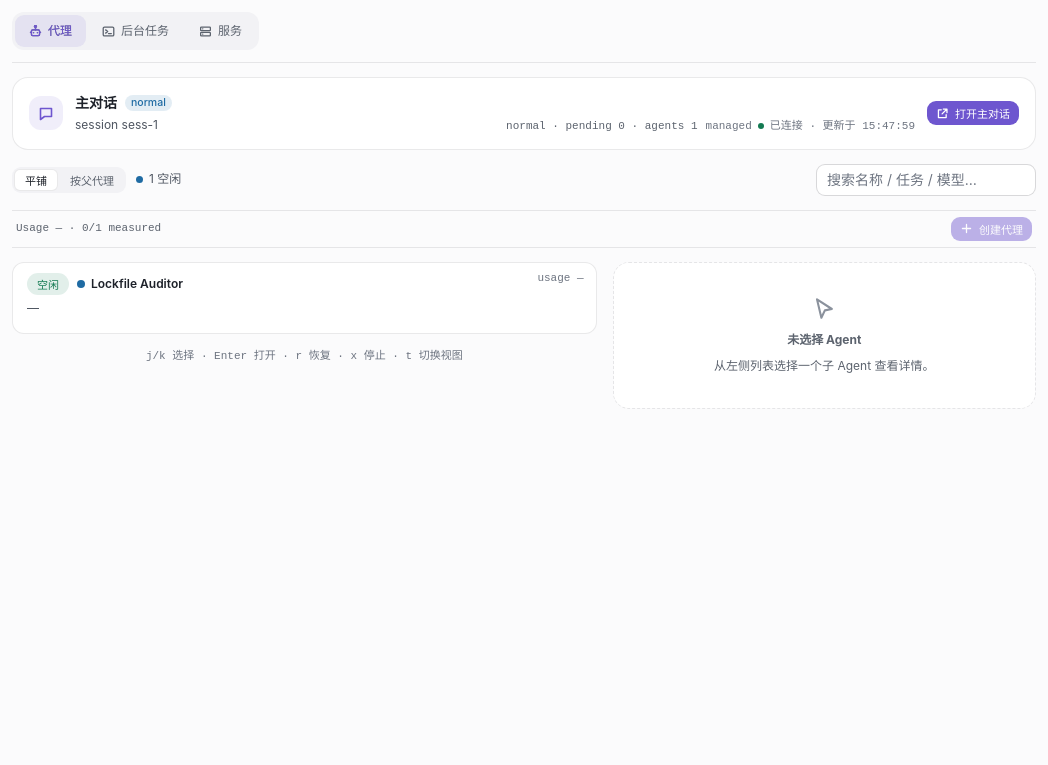
Scenario: AgentHubPage conversation preview › shows ChipComposer when the selected agent can receive agent.send
Step 1. Click the option "空闲 Lockfile Auditor — usage —" → coordinates (48, 284), box top-left (12, 262), bottom-right (597, 334)
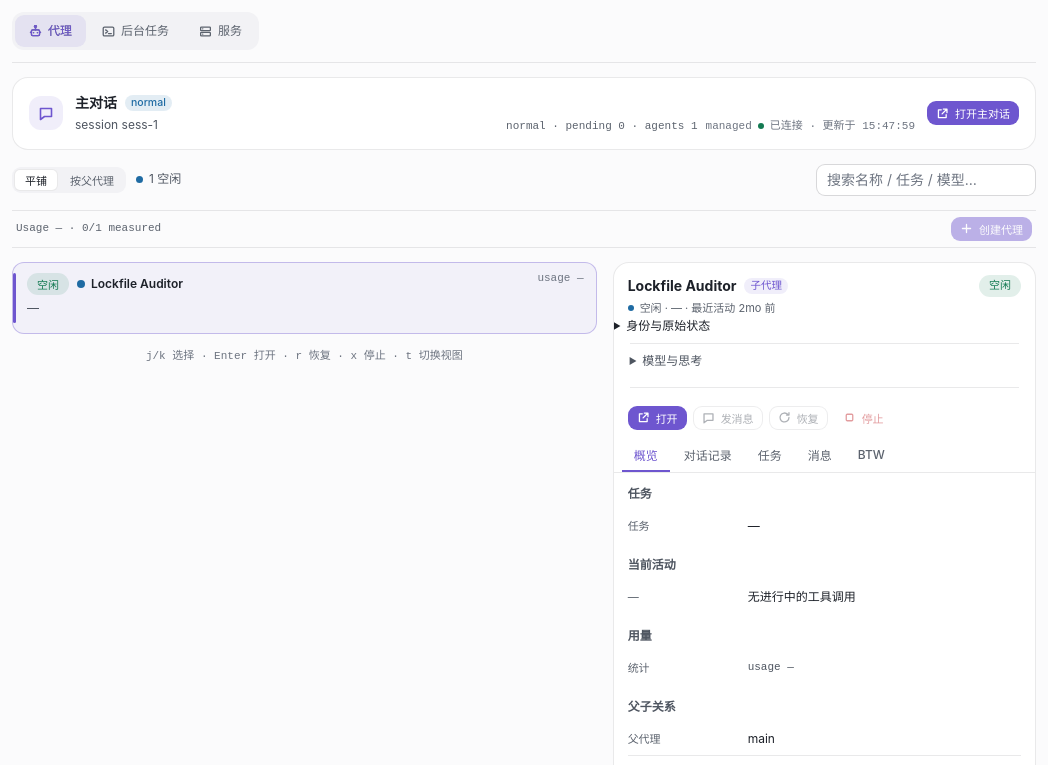
Step 2. Click the button "打开" → coordinates (657, 418), box top-left (628, 406), bottom-right (687, 430)
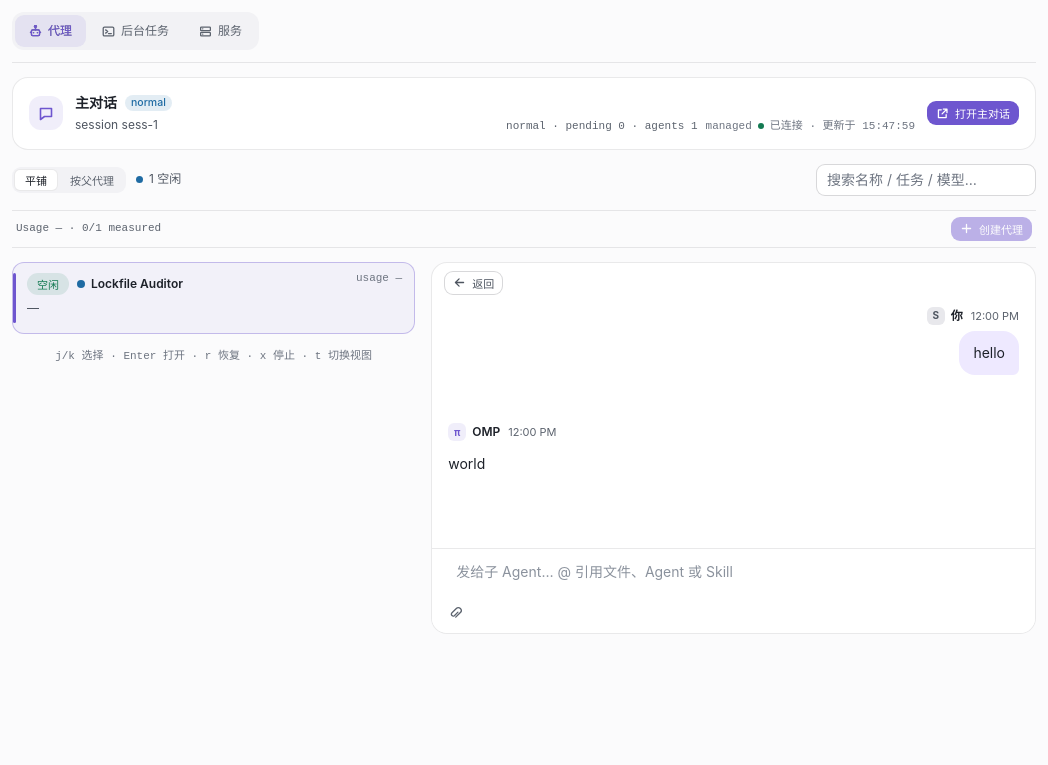
Expected: the field with id "hubAgentComposer" is shown, top-left (442, 557), bottom-right (1025, 597)
Expected: the button named "附件 / 图片" is shown, top-left (444, 601), bottom-right (466, 623)
